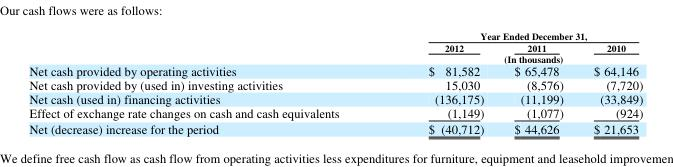table: (28, 29, 642, 136)
table column: (28, 29, 383, 136), (383, 29, 498, 136), (498, 29, 577, 136), (577, 29, 642, 136)
table column header: (28, 29, 642, 63)
table row: (28, 119, 642, 136), (28, 104, 642, 119), (28, 63, 642, 77), (28, 77, 642, 91), (28, 91, 642, 104), (28, 29, 642, 41), (28, 41, 642, 52), (28, 52, 642, 63)
table spanning cell: (383, 29, 642, 41), (383, 52, 642, 63)
